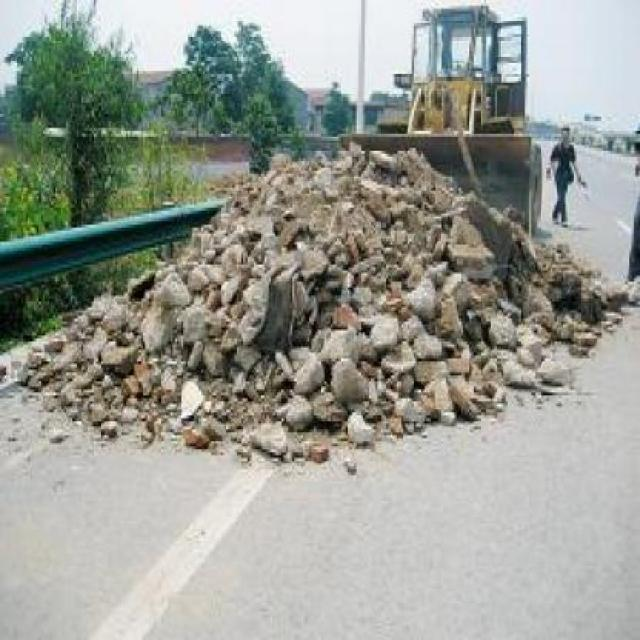garbage: (30, 148, 633, 454)
